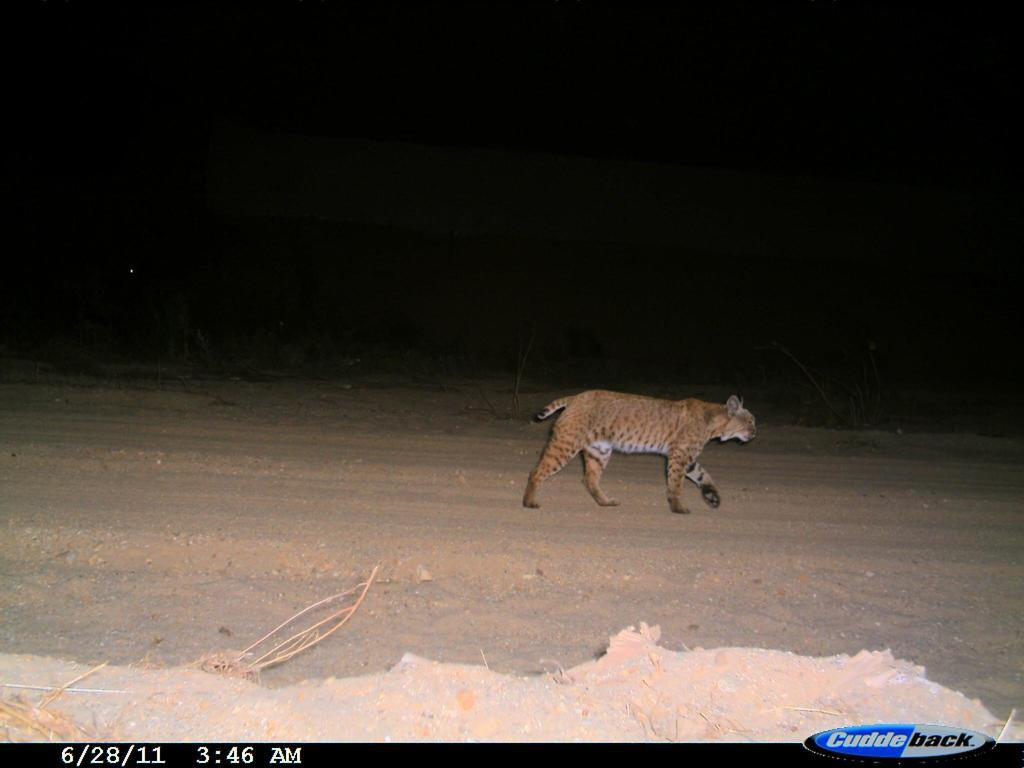bobcat: (516, 372, 777, 530)
